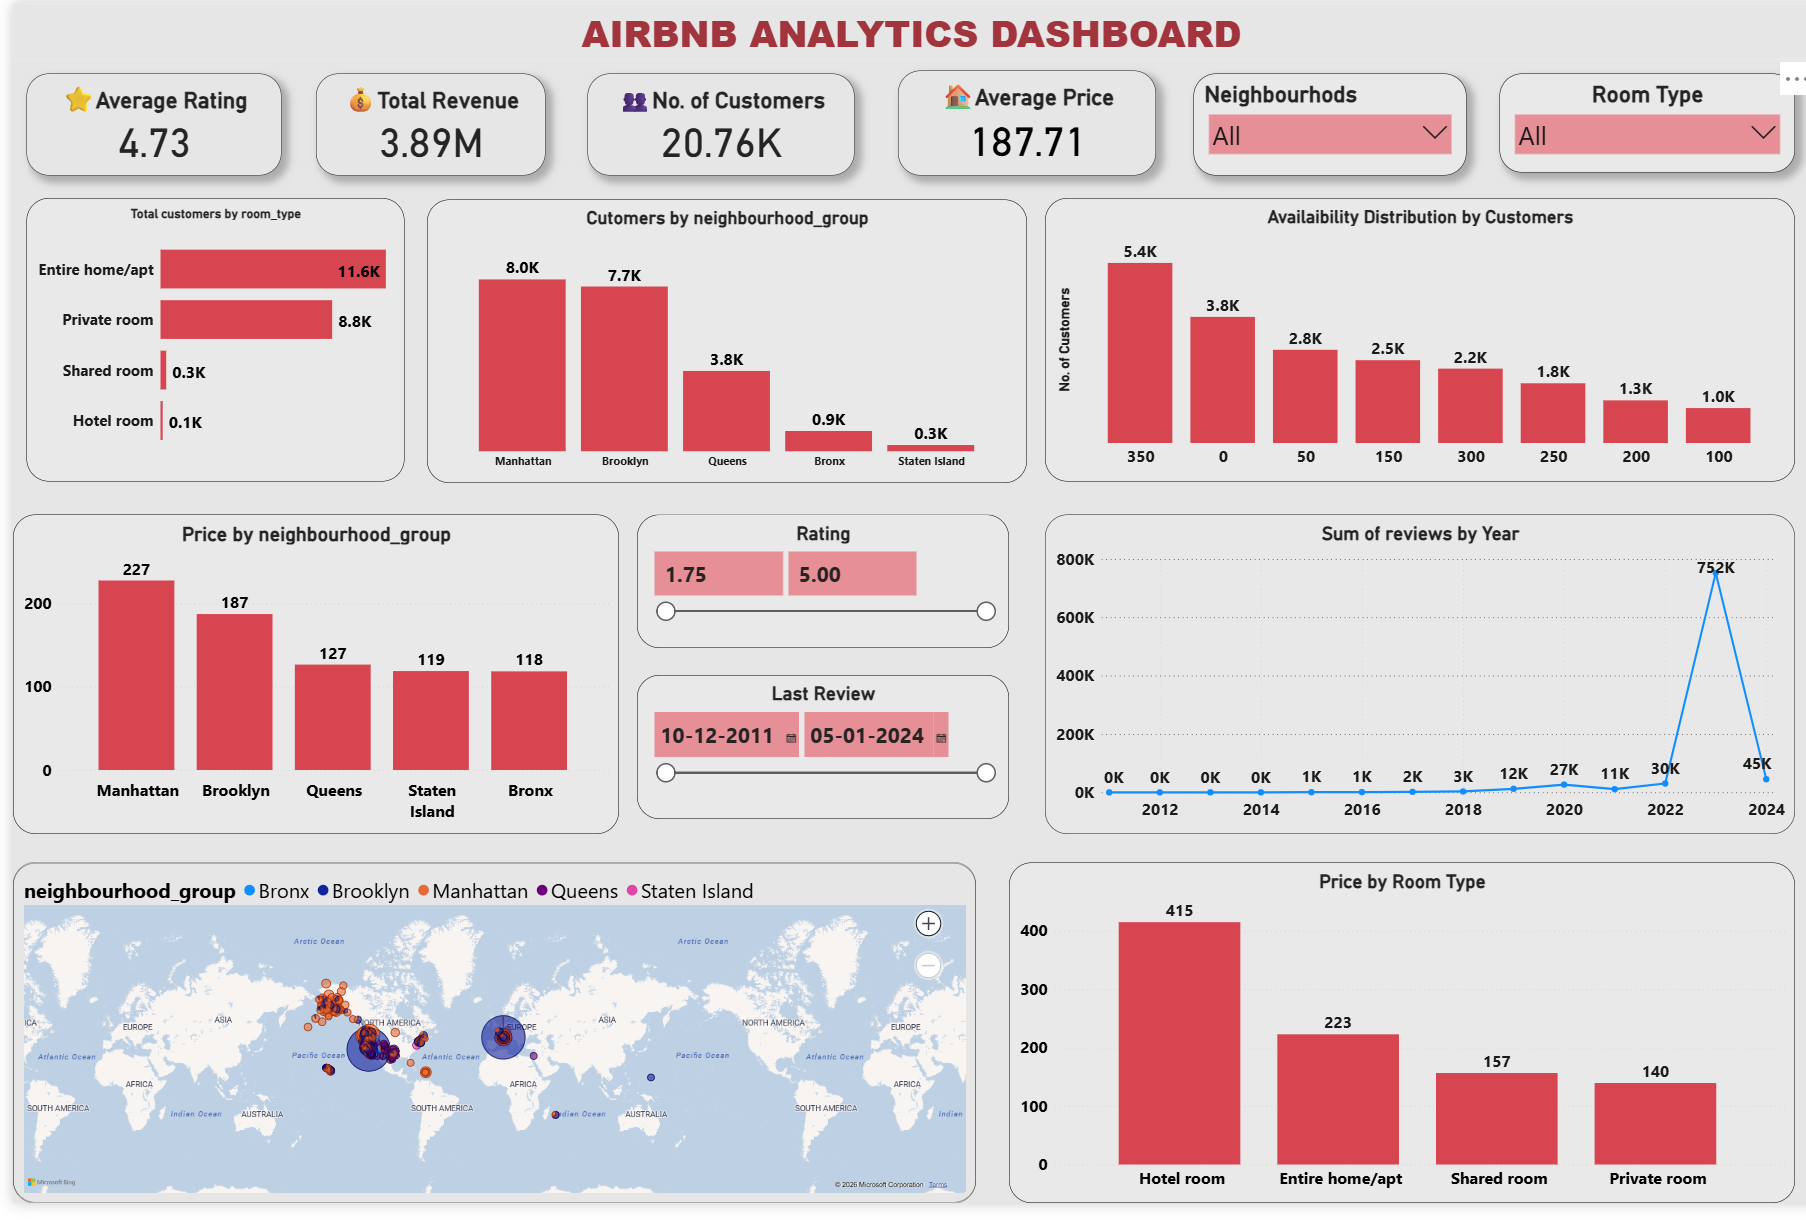

The page's visual inventory and layout, read from the dashboard file:
{"tool":"powerbi","page":{"name":"Page 1","canvas":[3000,1600],"ordinal":0},"visuals":[{"type":"barChart","title":"Total customers by room_type","fields":{"Category":["datasets.room_type"],"Y":["datasets.Total Listings"]},"box":[18,260,504,378],"z":0},{"type":"columnChart","title":"Cutomers by neighbourhood_group","fields":{"Category":["datasets.neighbourhood_group"],"Y":["datasets.Total Listings"]},"box":[552,262,800,378],"z":1000},{"type":"clusteredColumnChart","title":"Price by neighbourhood_group","fields":{"Category":["datasets.neighbourhood_group"],"Y":["Avg(datasets.price)"]},"box":[0,682,808,426],"z":2000},{"type":"lineChart","title":"Sum of reviews by Year","fields":{"Category":["datasets.last_review.Variation.Date Hierarchy.Year","datasets.last_review.Variation.Date Hierarchy.Quarter","datasets.last_review.Variation.Date Hierarchy.Month","datasets.last_review.Variation.Date Hierarchy.Day"],"Y":["Sum(datasets.number_of_reviews)"]},"box":[1376,682,1000,426],"z":3000},{"type":"map","fields":{"Category":["datasets.longitude","datasets.latitude"],"Size":["Sum(datasets.price)"],"Series":["datasets.neighbourhood_group"]},"box":[0,1146,1284,454],"z":4000},{"type":"slicer","title":"Neighbourhods","fields":{"Values":["datasets.neighbourhood_group"]},"box":[1574,94,364,136],"z":5000},{"type":"slicer","title":"Rating","fields":{"Values":["datasets.rating"]},"box":[832,682,496,178],"z":6000},{"type":"slicer","title":"Last Review","fields":{"Values":["datasets.last_review"]},"box":[832,896,496,192],"z":7000},{"type":"card","title":"👥No. of Customers","fields":{"Values":["CountNonNull(datasets.id)"]},"box":[766,94,356,136],"z":8000},{"type":"card","title":"💰Total Revenue","fields":{"Values":["datasets.Total Revenue"]},"box":[404,94,306,136],"z":9000},{"type":"card","title":"⭐Average Rating","fields":{"Values":["datasets.Average Rating"]},"box":[18,94,340,136],"z":10000},{"type":"card","title":"🏠Average Price","fields":{"Values":["datasets.Average Price"]},"box":[1180,90,344,140],"z":11000},{"type":"slicer","title":"Room Type","fields":{"Values":["datasets.room_type"]},"box":[1982,94,394,132],"z":12000},{"type":"textbox","box":[0,0,2404,76],"z":13000},{"type":"columnChart","title":"Price by Room Type","fields":{"Category":["datasets.room_type"],"Y":["datasets.Average Price"]},"box":[1328,1146,1048,454],"z":14000},{"type":"clusteredColumnChart","title":"Availaibility Distribution by Customers","fields":{"Category":["datasets.availability_365 (bins)"],"Y":["datasets.Total Listings"]},"box":[1376,260,1000,378],"z":15000}]}

Visuals, with their boxes on the page's 3000x1600 design canvas (x1, y1, x2, y2). These are canvas units, not pixel positions in the 1806x1220 screenshot, which may show the page scaled, cropped or inside an application window:
"Total customers by room_type" barChart: [left=18, top=260, right=522, bottom=638]
"Cutomers by neighbourhood_group" columnChart: [left=552, top=262, right=1352, bottom=640]
"Price by neighbourhood_group" clusteredColumnChart: [left=0, top=682, right=808, bottom=1108]
"Sum of reviews by Year" lineChart: [left=1376, top=682, right=2376, bottom=1108]
map - datasets.longitude x datasets.latitude: [left=0, top=1146, right=1284, bottom=1600]
"Neighbourhods" slicer: [left=1574, top=94, right=1938, bottom=230]
"Rating" slicer: [left=832, top=682, right=1328, bottom=860]
"Last Review" slicer: [left=832, top=896, right=1328, bottom=1088]
"👥No. of Customers" card: [left=766, top=94, right=1122, bottom=230]
"💰Total Revenue" card: [left=404, top=94, right=710, bottom=230]
"⭐Average Rating" card: [left=18, top=94, right=358, bottom=230]
"🏠Average Price" card: [left=1180, top=90, right=1524, bottom=230]
"Room Type" slicer: [left=1982, top=94, right=2376, bottom=226]
textbox: [left=0, top=0, right=2404, bottom=76]
"Price by Room Type" columnChart: [left=1328, top=1146, right=2376, bottom=1600]
"Availaibility Distribution by Customers" clusteredColumnChart: [left=1376, top=260, right=2376, bottom=638]
